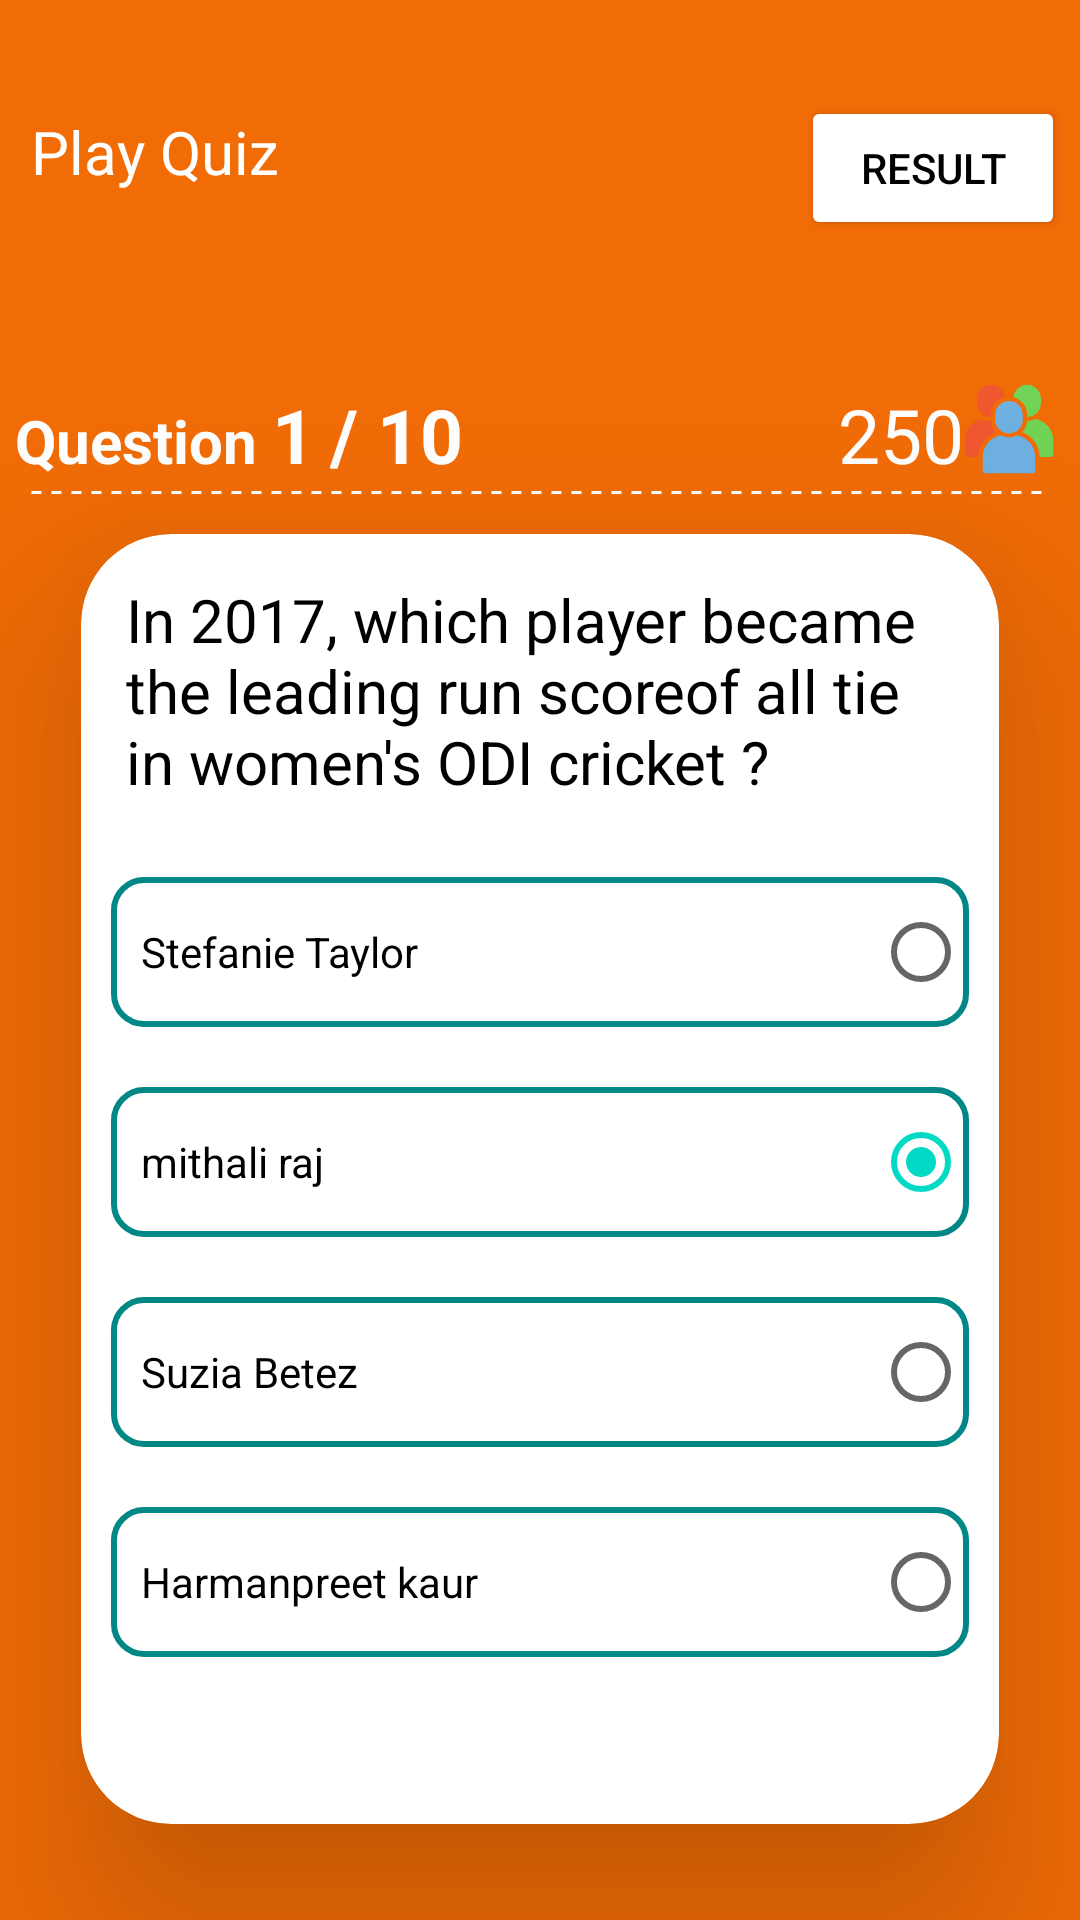

Locate icon controls on the screen. Image size 1080 x 1920, boxes as (x1, y1, x2, y2).
user group: (965, 384, 1054, 474)
